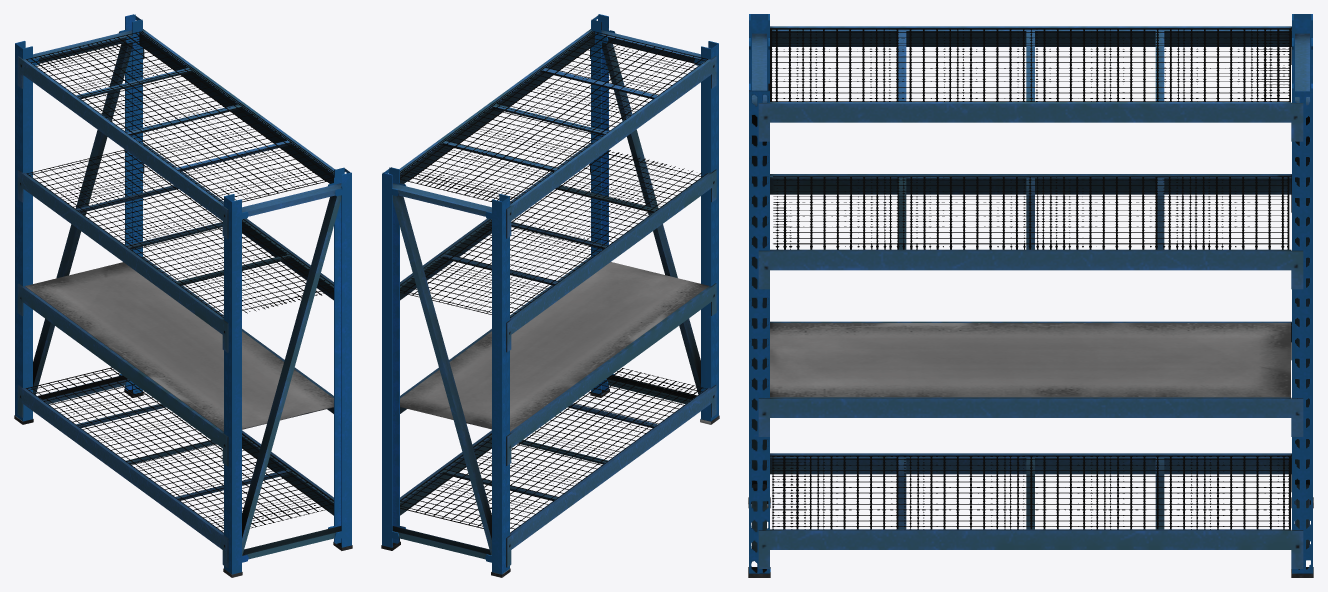
File: RackAccesorios.FBX
3 renders of one model, left to right at view 1: azimuth 30°, elevation 25°; view 2: azimuth 150°, elevation 25°; view 3: azimuth 270°, elevation 25°, orthographic. The views are drawn at different scales.
Parts seen in each view (by area): view 1: Base2, Intersecciones, InterseccionesBase, Base4, Base3, Base1, Pata1, Pata4, Pata3, SoporteDiag1, Pata2, SoporteDiag2 (+4 smaller); view 2: Base2, Intersecciones, InterseccionesBase, Base4, Base3, Base1, Pata2, Pata3, Pata4, SoporteDiag2, Pata1, SoporteDiag1 (+4 smaller); view 3: InterseccionesBase, Base2, Intersecciones, Base4, Base3, Base1, Pata2, Pata1, SoporteDiag1, SoporteDiag2, Pata4, SoporteArriba1 (+2 smaller).
Part boxes in pixels (left/top/right/bottom): Base2: left=25, top=262, right=333, bottom=431; Intersecciones: left=17, top=56, right=228, bottom=567; InterseccionesBase: left=76, top=29, right=334, bottom=515; Base4: left=26, top=31, right=333, bottom=204; Base3: left=26, top=149, right=333, bottom=317; Base1: left=26, top=367, right=333, bottom=533; Pata1: left=328, top=167, right=351, bottom=547; Pata4: left=224, top=194, right=248, bottom=574; Pata3: left=15, top=41, right=39, bottom=421; SoporteDiag1: left=242, top=195, right=341, bottom=555; Pata2: left=119, top=14, right=142, bottom=394; SoporteDiag2: left=33, top=42, right=132, bottom=394; Base2: left=400, top=262, right=708, bottom=431; Intersecciones: left=506, top=56, right=716, bottom=567; InterseccionesBase: left=399, top=29, right=657, bottom=515; Base4: left=400, top=31, right=708, bottom=204; Base3: left=400, top=150, right=707, bottom=317; Base1: left=400, top=368, right=707, bottom=533; Pata2: left=382, top=167, right=405, bottom=547; Pata3: left=485, top=194, right=509, bottom=574; Pata4: left=694, top=41, right=718, bottom=421; SoporteDiag2: left=392, top=195, right=491, bottom=555; Pata1: left=591, top=14, right=614, bottom=394; SoporteDiag1: left=601, top=42, right=700, bottom=394; InterseccionesBase: left=758, top=30, right=1303, bottom=568; Base2: left=770, top=323, right=1290, bottom=397; Intersecciones: left=770, top=26, right=1291, bottom=492; Base4: left=770, top=28, right=1290, bottom=101; Base3: left=773, top=176, right=1289, bottom=249; Base1: left=772, top=456, right=1290, bottom=529; Pata2: left=1292, top=83, right=1312, bottom=573; Pata1: left=749, top=83, right=769, bottom=573; SoporteDiag1: left=752, top=115, right=766, bottom=489; SoporteDiag2: left=1295, top=116, right=1309, bottom=489; Pata4: left=749, top=14, right=769, bottom=487; SoporteArriba1: left=752, top=33, right=766, bottom=106.
Bounding box in the file's own units: 61.48 × 180 × 189.
1 material, 1 textured.
